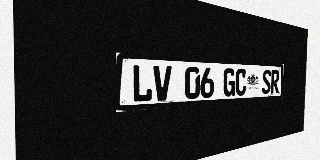0: (184, 67, 200, 99)
6: (200, 67, 214, 98)
C: (235, 69, 247, 96)
G: (223, 68, 235, 97)
L: (132, 64, 153, 103)
R: (271, 70, 279, 94)
S: (262, 70, 271, 94)
V: (153, 65, 172, 101)
